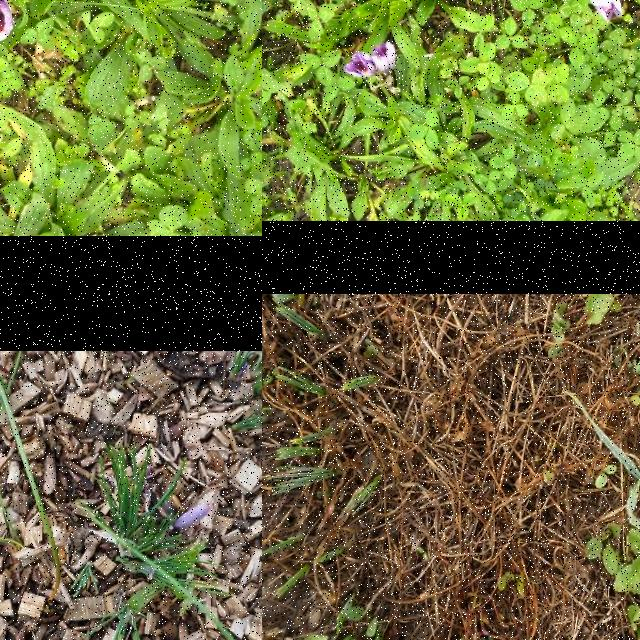flower: (172, 504, 212, 536), (372, 42, 396, 76), (344, 52, 374, 78), (591, 0, 623, 22)
